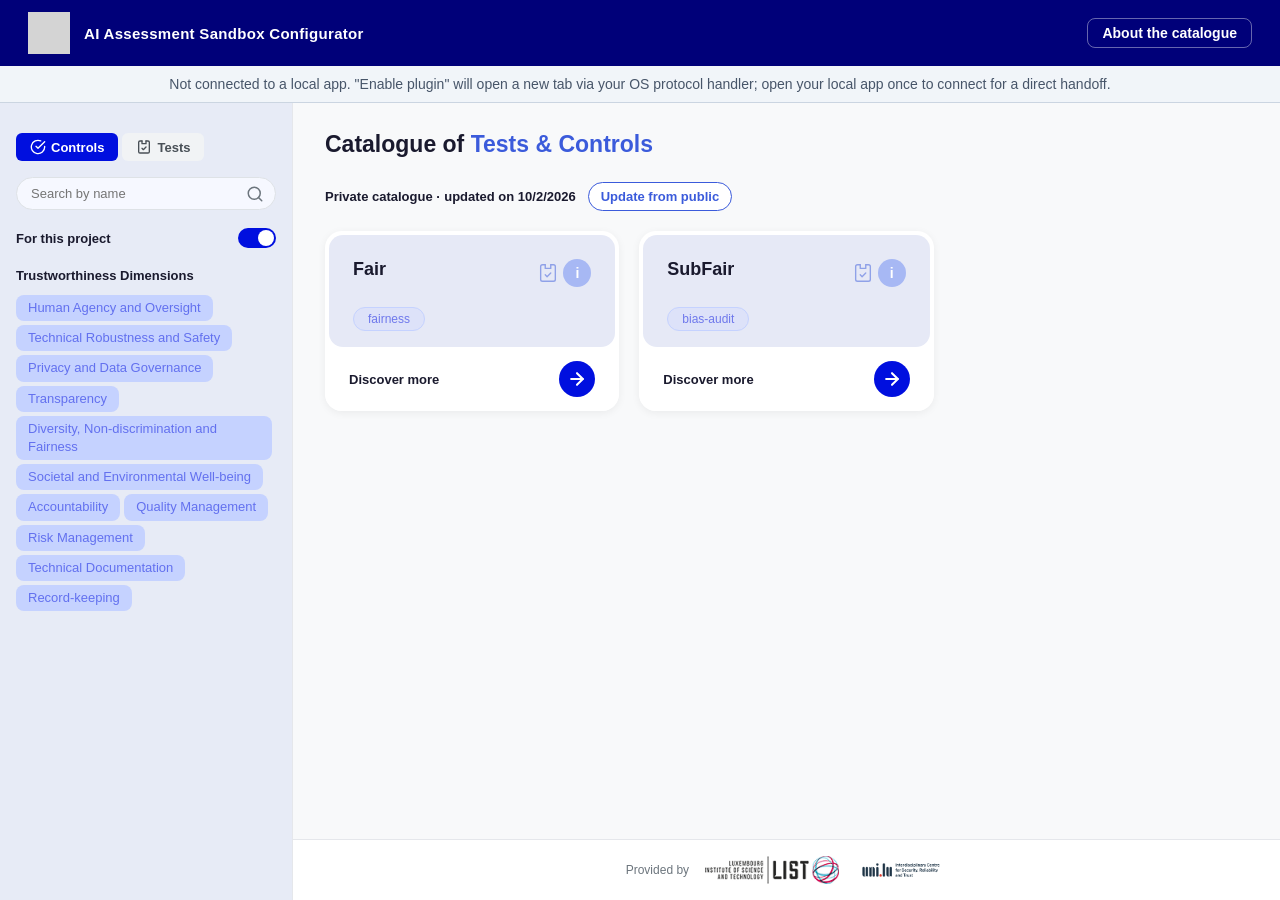
Catalogue page of a project › shows everything once 'For this project' is switched off
Check: the heading "Fair" is shown, box [353,259,386,280]
Click the switch labelled "For this project". click: (63, 238)
box: [16,228,276,248]
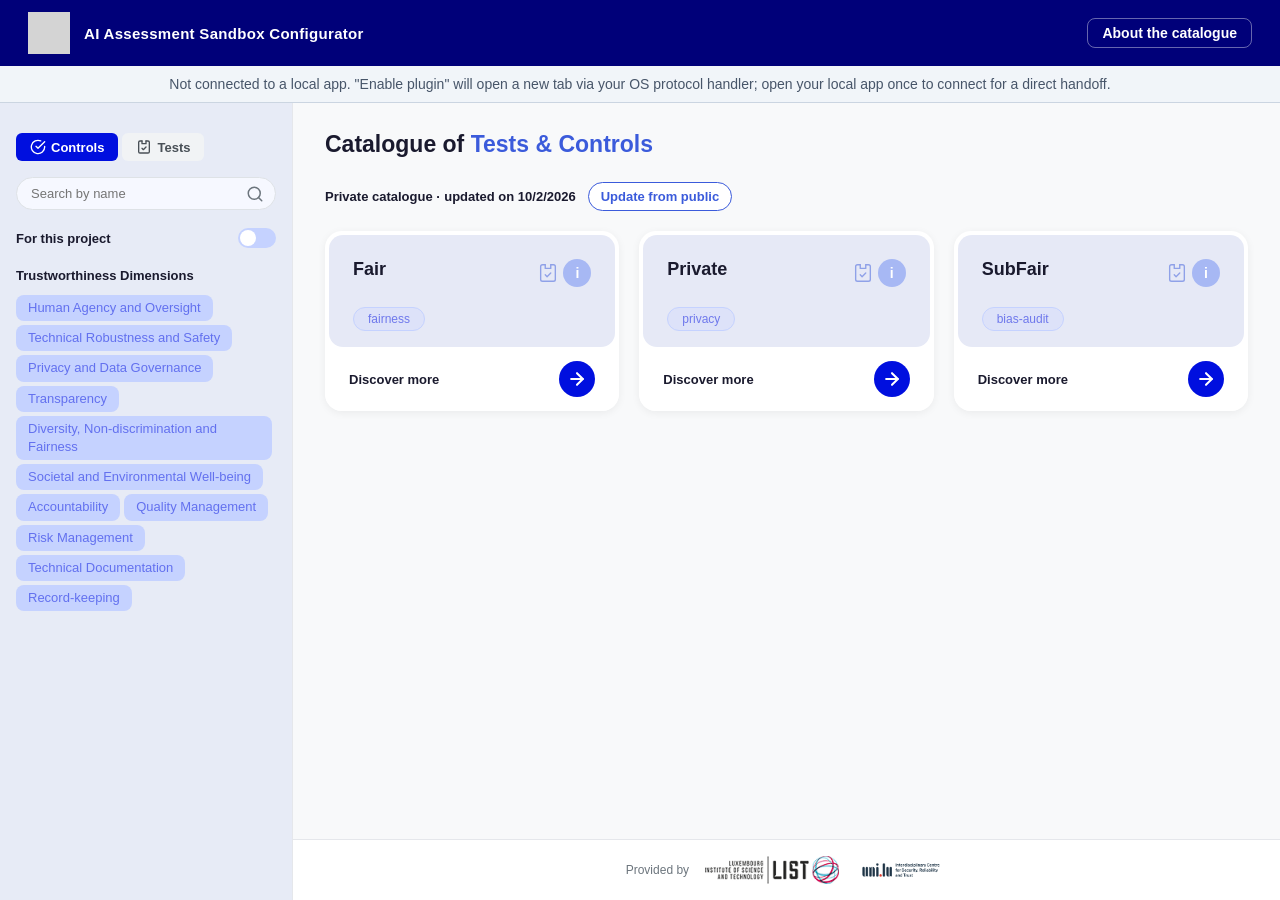
Check: the heading "Private" is shown, box [667,259,727,280]
